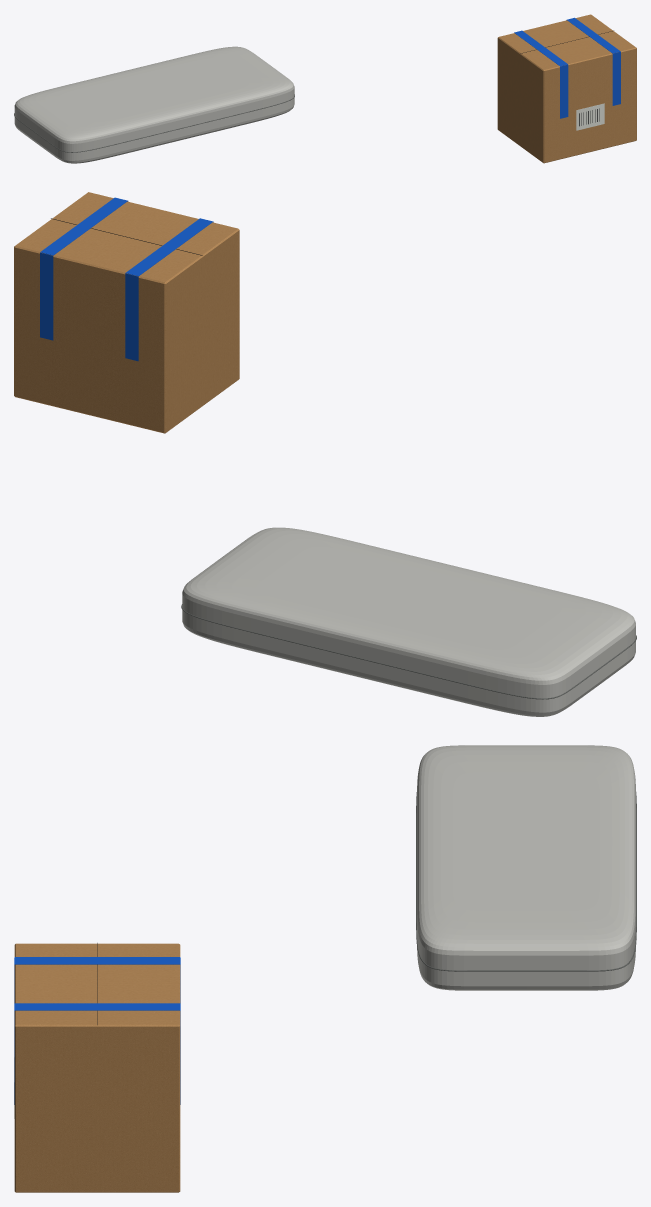
Rendered from task-09.glb.
3 views of the same model, one above another, from view 1: azimuth 30°, elevation 25°; view 2: azimuth 150°, elevation 25°; view 3: azimuth 270°, elevation 25° (orthographic). The views are drawn at different scales.
Visible parts, largest first — view 1: pad__0_look, box__2; view 2: pad__0_look, box__2; view 3: pad__0_look, box__2.
Part boxes in pixels (left/top/right/bottom): pad__0_look: left=14, top=46, right=294, bottom=163; box__2: left=497, top=14, right=636, bottom=163; pad__0_look: left=181, top=527, right=636, bottom=716; box__2: left=14, top=192, right=239, bottom=433; pad__0_look: left=416, top=745, right=636, bottom=990; box__2: left=14, top=943, right=180, bottom=1192.
Bounding box in the file's own units: 1.95 × 0.3809 × 1.28.
276 materials, 2 textured.
